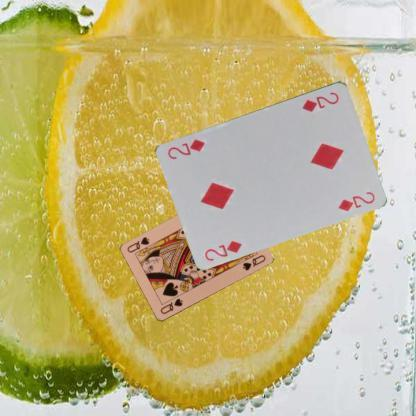2d: (202, 237, 243, 262), (300, 88, 340, 113)
Qs: (158, 296, 184, 316)
